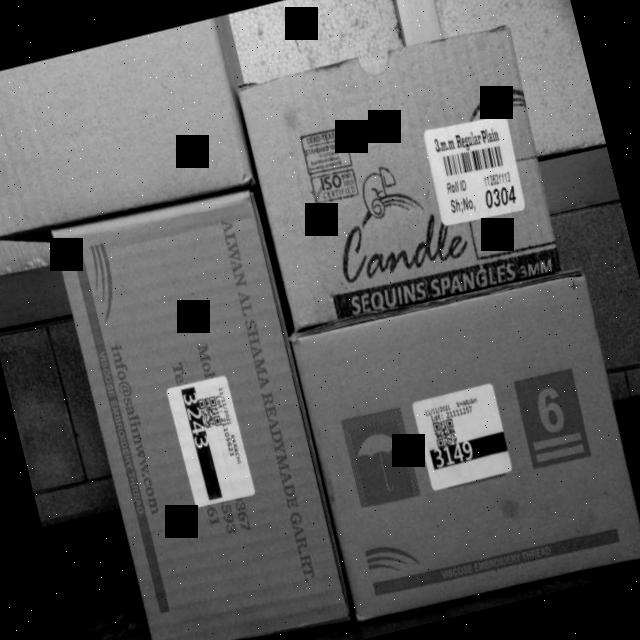box: (53, 191, 356, 640), (290, 270, 640, 621), (239, 22, 567, 328), (0, 16, 255, 247)
